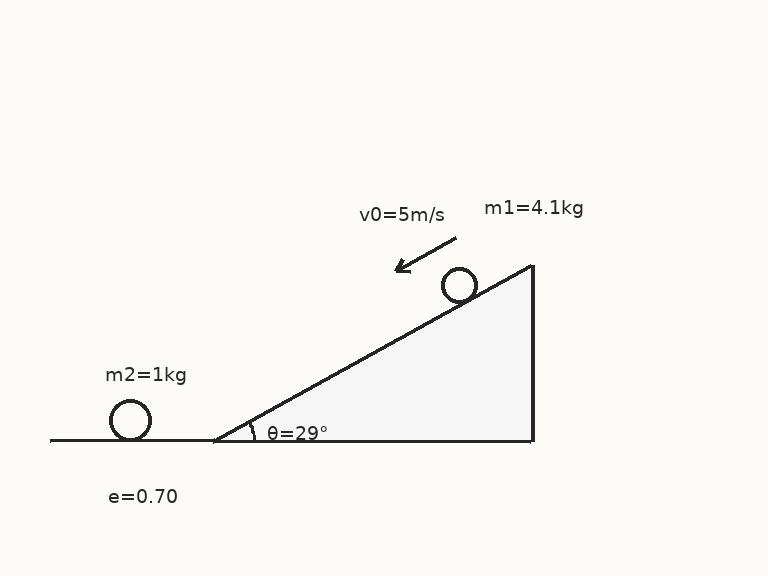ball: (107, 397, 153, 443), (439, 265, 479, 305)
ramp: (212, 263, 533, 443)
